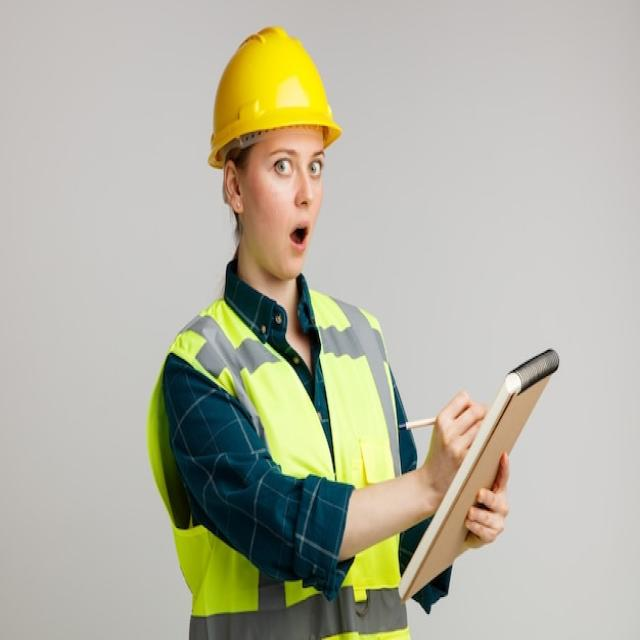helmet: (206, 22, 344, 179)
no-goggles: (222, 137, 342, 205)
vest: (144, 280, 413, 640)
